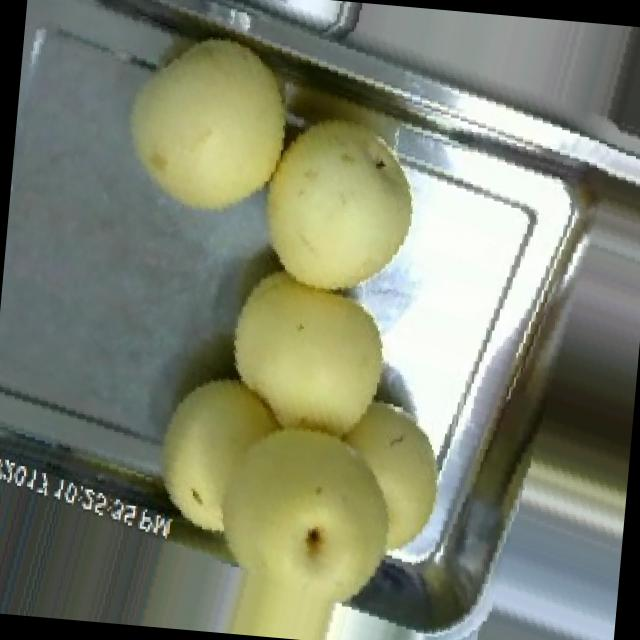Fruit: (118, 350, 467, 640), (91, 0, 324, 246), (223, 86, 450, 320), (199, 246, 421, 459)
